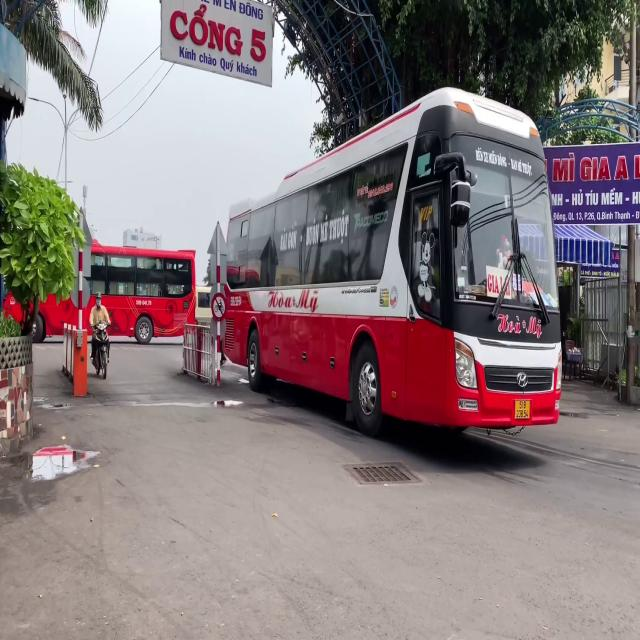bien_vang: (512, 396, 532, 422)
